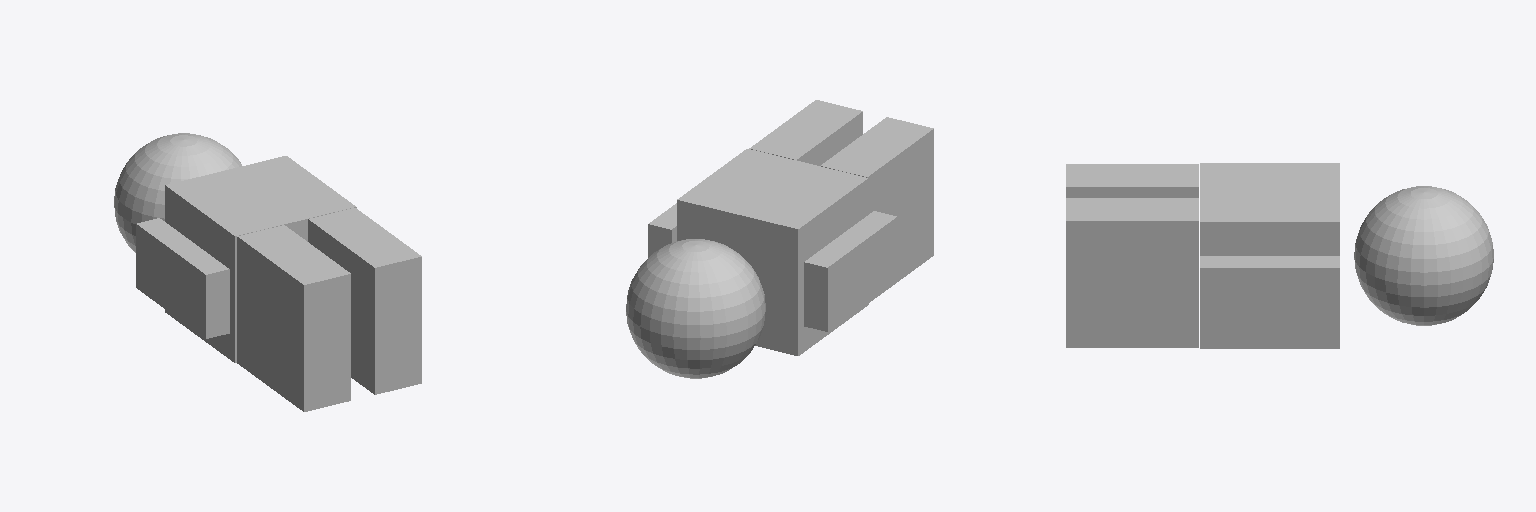
File: rocky_robot_animation_000002.obj
3 renders of one model, left to right at view 1: azimuth 30°, elevation 25°; view 2: azimuth 150°, elevation 25°; view 3: azimuth 270°, elevation 25°, orthographic.
Parts seen in each view (by area): view 1: Cube.001_Cube.005, Cube.002, Cube, Cube.004, Sphere.001; view 2: Cube, Sphere.001, Cube.001_Cube.005, Cube.004, Cube.002, Cube.003; view 3: Cube.002, Cube, Sphere.001, Cube.003, Cube.001_Cube.005.
Part boxes in pixels (left/top/right/bottom): Cube.001_Cube.005: left=237, top=225, right=350, bottom=411; Cube.002: left=308, top=208, right=421, bottom=394; Cube: left=165, top=156, right=356, bottom=362; Cube.004: left=136, top=218, right=229, bottom=338; Sphere.001: left=114, top=133, right=241, bottom=252; Cube: left=677, top=149, right=868, bottom=355; Sphere.001: left=626, top=239, right=765, bottom=378; Cube.001_Cube.005: left=821, top=117, right=933, bottom=302; Cube.004: left=804, top=211, right=897, bottom=331; Cube.002: left=749, top=100, right=862, bottom=165; Cube.003: left=648, top=203, right=676, bottom=257; Cube.002: left=1066, top=198, right=1198, bottom=347; Cube: left=1200, top=163, right=1339, bottom=348; Sphere.001: left=1354, top=186, right=1493, bottom=325; Cube.003: left=1200, top=256, right=1339, bottom=331; Cube.001_Cube.005: left=1066, top=164, right=1198, bottom=197.
Bounding box in the file's own units: 0.76 × 0.514 × 1.57.